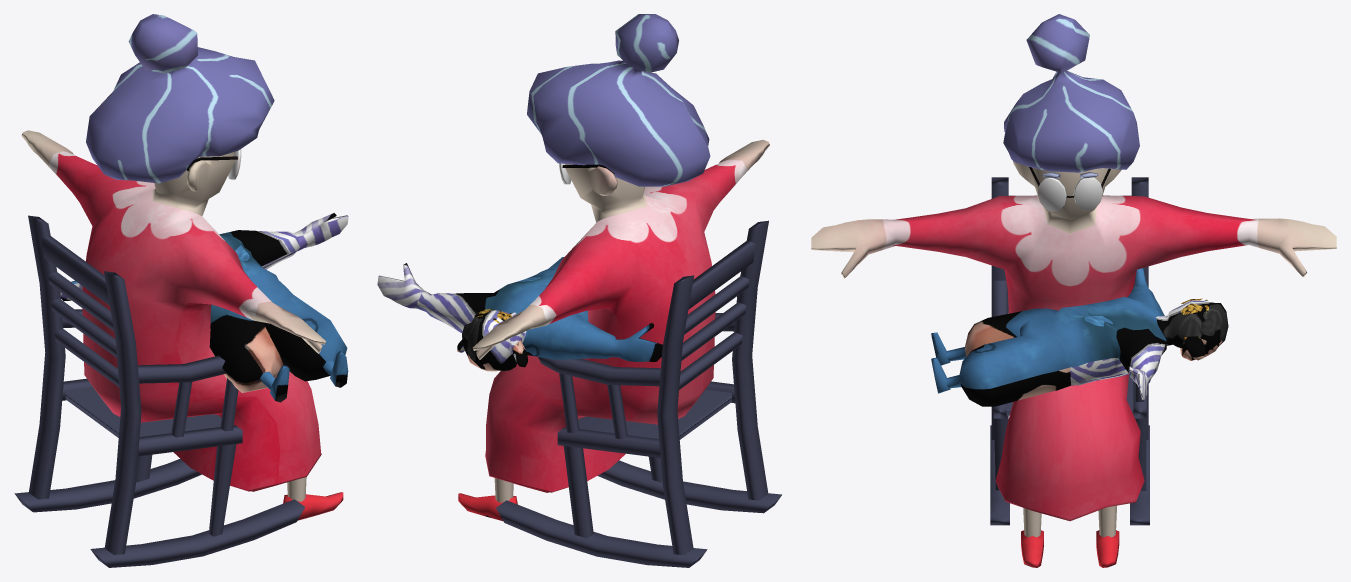
File: grandma_i_gyngestol.fbx
The picture shows the model from 3 angles, left to right: view 1: azimuth 30°, elevation 25°; view 2: azimuth 150°, elevation 25°; view 3: azimuth 270°, elevation 25°; orthographic projection. The views are drawn at different scales.
Parts seen in each view (by area): view 1: polySurface28, pCube22, hugo_mesh4, polySurface25; view 2: polySurface28, pCube22, hugo_mesh4, polySurface24; view 3: polySurface28, hugo_mesh4, pCube22, polySurface24, polySurface25.
Part boxes in pixels (box(x1,y1,x2,y2)): polySurface28: box(21, 14, 325, 491); pCube22: box(14, 215, 304, 567); hugo_mesh4: box(60, 213, 348, 402); polySurface25: box(283, 492, 343, 520); polySurface28: box(472, 14, 769, 492); pCube22: box(496, 220, 781, 567); hugo_mesh4: box(377, 257, 662, 371); polySurface24: box(458, 493, 517, 520); polySurface28: box(811, 14, 1336, 521); hugo_mesh4: box(931, 268, 1228, 406); pCube22: box(990, 177, 1149, 525); polySurface24: box(1096, 530, 1119, 567); polySurface25: box(1021, 530, 1043, 567).
Size of the model in its own units: 1.2 by 1.81 by 1.8.
